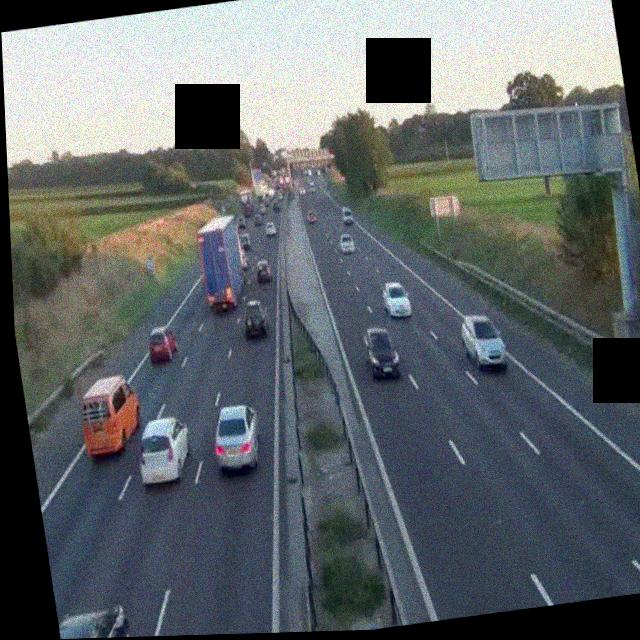car: (76, 371, 145, 457), (133, 414, 194, 485), (209, 401, 264, 471), (457, 311, 508, 373), (56, 604, 131, 639), (360, 324, 401, 380), (145, 325, 180, 365), (380, 279, 412, 319), (239, 299, 269, 339), (255, 258, 272, 284), (337, 231, 355, 255), (237, 230, 251, 250), (340, 206, 353, 225), (264, 220, 276, 235), (306, 209, 318, 224), (237, 214, 248, 230), (271, 200, 281, 214), (300, 187, 307, 197)
truck: (195, 215, 246, 311), (237, 189, 253, 218)
